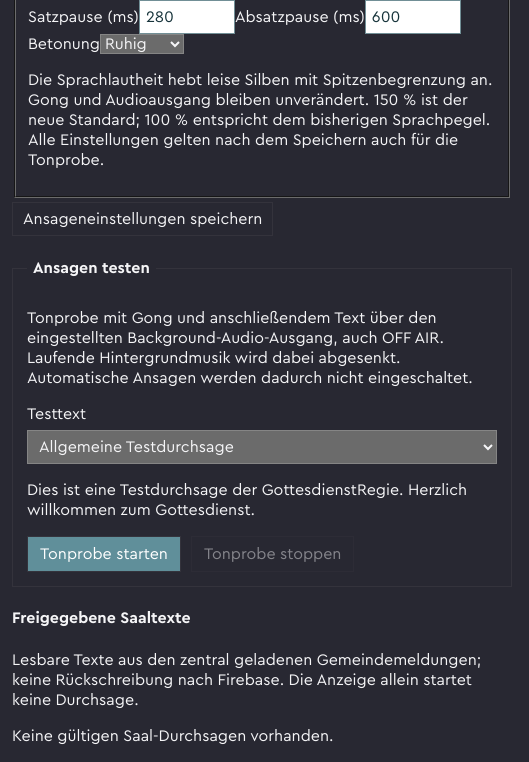
Test: single control shell announcement owner › offers a settings probe with a selected text and stops it when settings close
This screenshot has width=529, height=762.
(page scrolled)
Click the button "Tonprobe starten" at (104, 554), box [27,536,181,572]
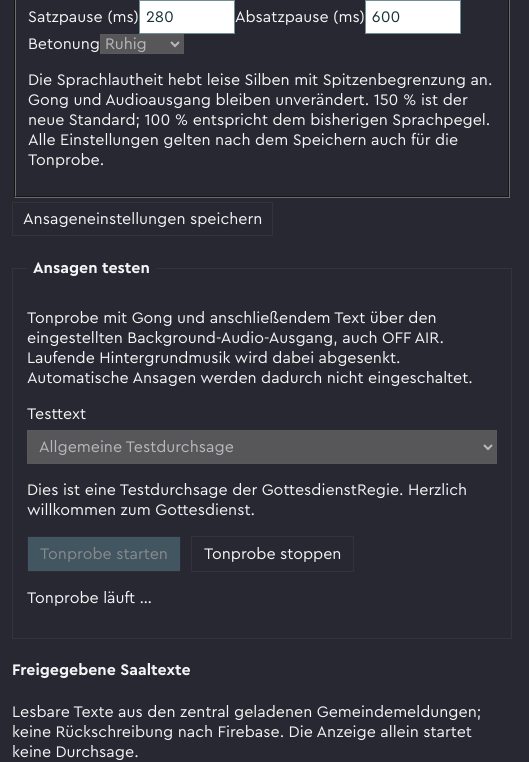
Expected: the button "Tonprobe stoppen" is enabled, [191,536,354,572]
